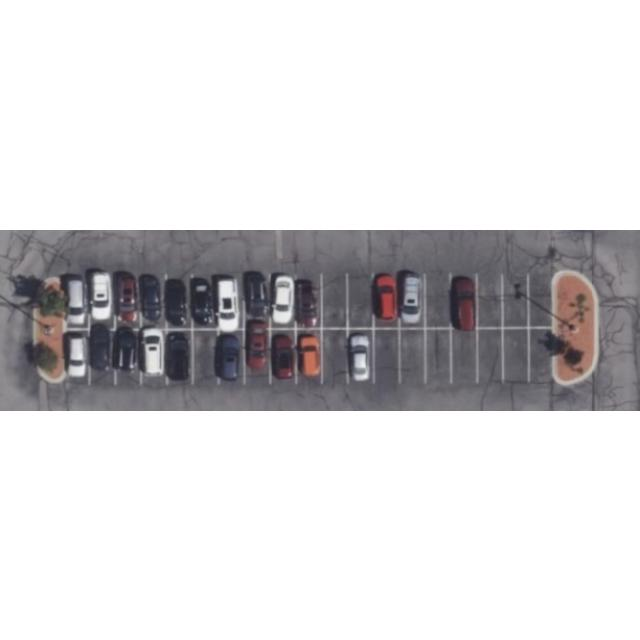Empty: (528, 328, 558, 384), (322, 328, 351, 382), (475, 274, 503, 328), (372, 328, 400, 382), (424, 272, 452, 326), (192, 331, 220, 382), (452, 328, 478, 382), (348, 274, 374, 328), (426, 330, 452, 382), (320, 274, 346, 326), (501, 276, 527, 326), (504, 328, 528, 382), (530, 275, 554, 327), (400, 328, 424, 380), (480, 329, 504, 378)
Parked: (346, 328, 376, 382), (140, 330, 168, 386), (166, 329, 194, 385), (166, 275, 194, 329), (192, 274, 220, 328), (243, 328, 270, 384), (218, 275, 245, 329), (243, 274, 270, 328), (90, 274, 116, 330), (297, 328, 323, 384), (64, 329, 90, 383), (90, 330, 116, 384), (115, 331, 142, 383), (270, 274, 296, 328), (296, 273, 322, 327), (219, 330, 245, 384), (270, 329, 296, 383), (114, 277, 140, 329), (142, 274, 166, 328), (64, 274, 88, 326)
